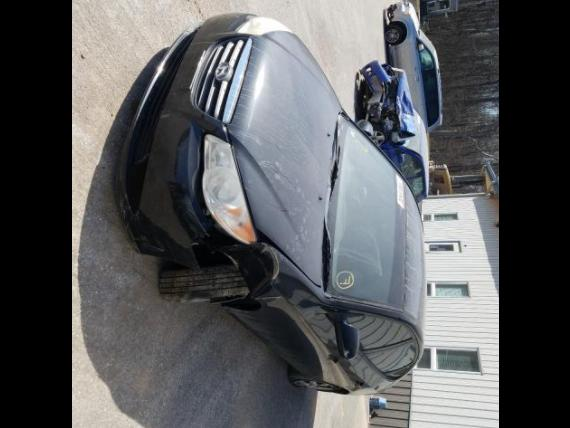Broken part: (112, 13, 255, 272), (253, 225, 320, 286), (160, 260, 250, 303)
Dent: (199, 233, 281, 304), (289, 289, 329, 309)
